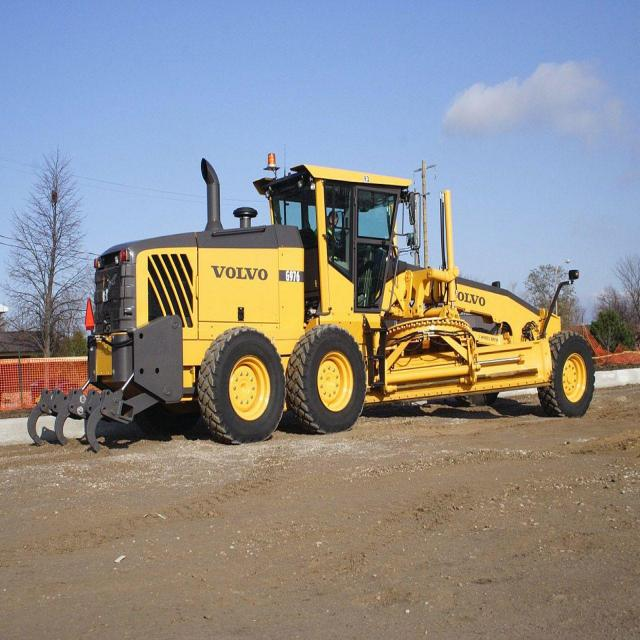Grader: (72, 140, 616, 443)
